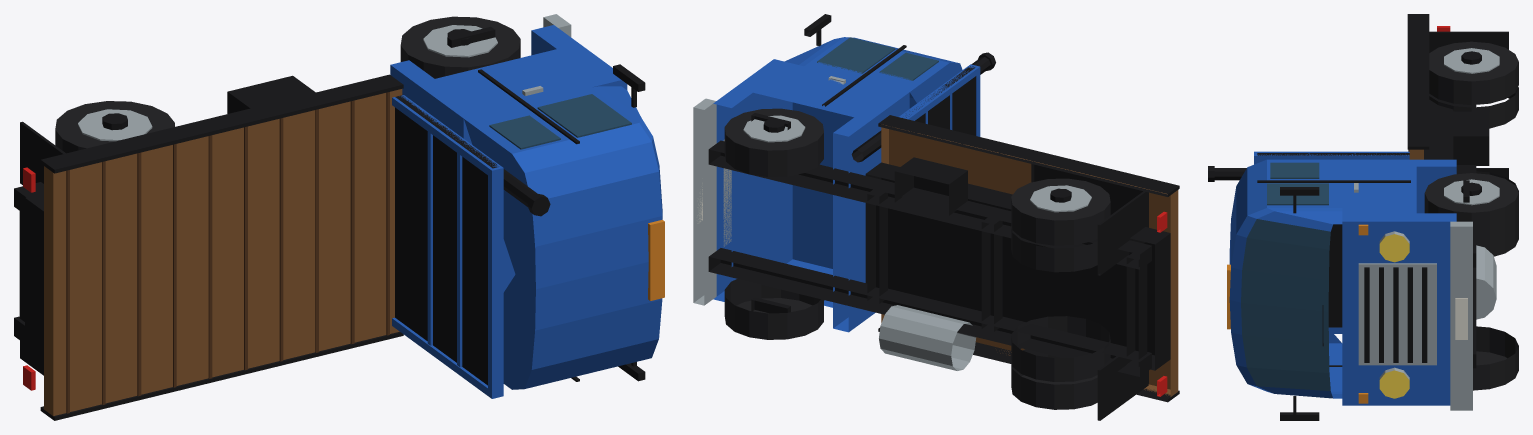
Rendered from empty.glb.
3 renders of one model, left to right at view 1: azimuth 30°, elevation 25°; view 2: azimuth 150°, elevation 25°; view 3: azimuth 270°, elevation 25°, orthographic. The views are drawn at different scales.
Parts seen in each view (by area): view 1: empty_deck, empty_cab_upper, empty_headboard, empty_side1_-3.60_1.67_black, empty_cab_arch, empty_front1, empty_rear_out1, empty_headboard_top, empty_subframe, empty_cab_back, empty_side_window1, empty_cab_front (+22 smaller); view 2: empty_subframe, empty_cab_arch, empty_chassis-1, empty_deck, empty_cab_front, empty_cab_back, empty_chassis1, empty_front1, empty_rear_out1, empty_bumper, empty_fuel_tank, empty_side1_-3.60_1.67_black (+20 smaller); view 3: empty_cab_upper, empty_cab_front, empty_grille, empty_rear_out1, empty_front1, empty_bumper, empty_cab_arch, empty_side1_-3.60_1.67_black, empty_front-1, empty_battery_box, empty_headboard, empty_cab_back (+22 smaller).
Boxes of the visible parts, x1=… form: empty_deck: x1=44, y1=89, x2=402, y2=416; empty_cab_upper: x1=464, y1=86, x2=662, y2=389; empty_headboard: x1=395, y1=95, x2=498, y2=385; empty_side1_-3.60_1.67_black: x1=40, y1=74, x2=403, y2=173; empty_cab_arch: x1=435, y1=49, x2=604, y2=292; empty_front1: x1=400, y1=16, x2=520, y2=78; empty_rear_out1: x1=55, y1=101, x2=174, y2=153; empty_headboard_top: x1=488, y1=165, x2=503, y2=398; empty_subframe: x1=25, y1=193, x2=43, y2=363; empty_cab_back: x1=390, y1=60, x2=481, y2=144; empty_side_window1: x1=537, y1=94, x2=631, y2=137; empty_cab_front: x1=531, y1=25, x2=627, y2=89; empty_subframe: x1=865, y1=162, x2=1170, y2=370; empty_cab_arch: x1=753, y1=63, x2=893, y2=307; empty_chassis-1: x1=708, y1=248, x2=1151, y2=376; empty_deck: x1=881, y1=124, x2=1178, y2=396; empty_cab_front: x1=713, y1=59, x2=792, y2=301; empty_cab_back: x1=833, y1=88, x2=909, y2=332; empty_chassis1: x1=708, y1=140, x2=1151, y2=269; empty_front1: x1=724, y1=108, x2=823, y2=176; empty_rear_out1: x1=1011, y1=178, x2=1110, y2=245; empty_bumper: x1=693, y1=98, x2=716, y2=305; empty_fuel_tank: x1=879, y1=305, x2=976, y2=370; empty_side1_-3.60_1.67_black: x1=878, y1=115, x2=1179, y2=196; empty_cab_upper: x1=1229, y1=159, x2=1342, y2=398; empty_cab_front: x1=1342, y1=213, x2=1456, y2=405; empty_grille: x1=1358, y1=263, x2=1436, y2=365; empty_rear_out1: x1=1429, y1=41, x2=1518, y2=105; empty_front1: x1=1424, y1=173, x2=1518, y2=237; empty_bumper: x1=1450, y1=221, x2=1472, y2=410; empty_cab_arch: x1=1342, y1=166, x2=1416, y2=213; empty_side1_-3.60_1.67_black: x1=1407, y1=14, x2=1429, y2=149; empty_front-1: x1=1473, y1=326, x2=1518, y2=390; empty_battery_box: x1=1453, y1=111, x2=1489, y2=165; empty_headboard: x1=1257, y1=153, x2=1409, y2=327; empty_cab_back: x1=1342, y1=159, x2=1456, y2=213.
Size of the model in its own units: 7.56 by 3.9 by 4.75.
